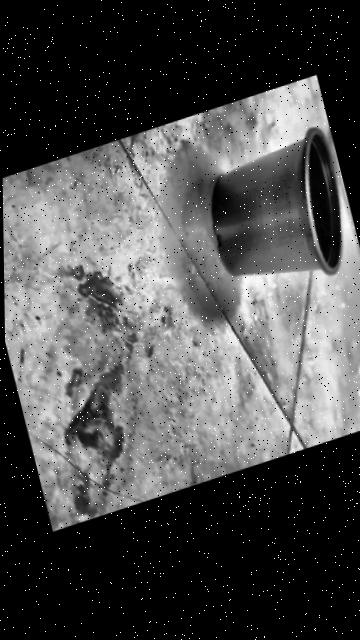pot: (197, 121, 359, 311)
